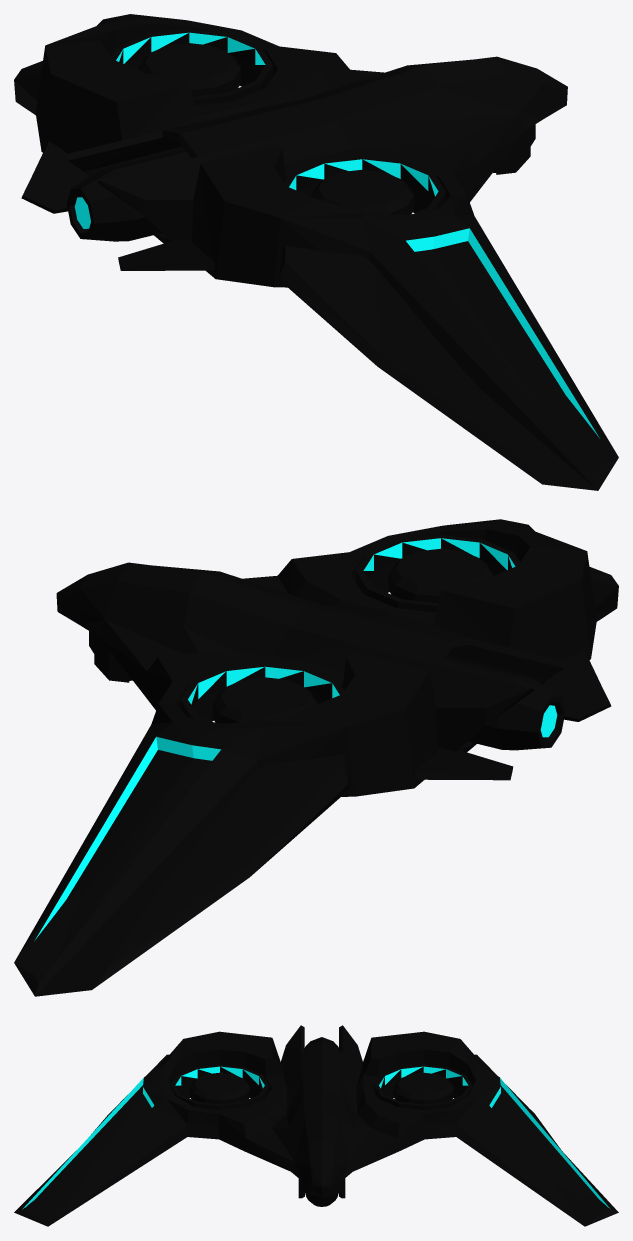
Rendered from Spaceship2.FBX.
The picture shows the model from 3 angles, top to bottom: view 1: azimuth 30°, elevation 25°; view 2: azimuth 150°, elevation 25°; view 3: azimuth 270°, elevation 25°; orthographic projection. The views are drawn at different scales.
Parts seen in each view (by area): view 1: Drone; view 2: Drone; view 3: Drone.
Part boxes in pixels (box(x1,y1,x2,y2)): Drone: box(14, 14, 618, 490); Drone: box(14, 519, 618, 996); Drone: box(14, 1025, 618, 1226).
Bounding box in the file's own units: 118 × 48.35 × 212.
